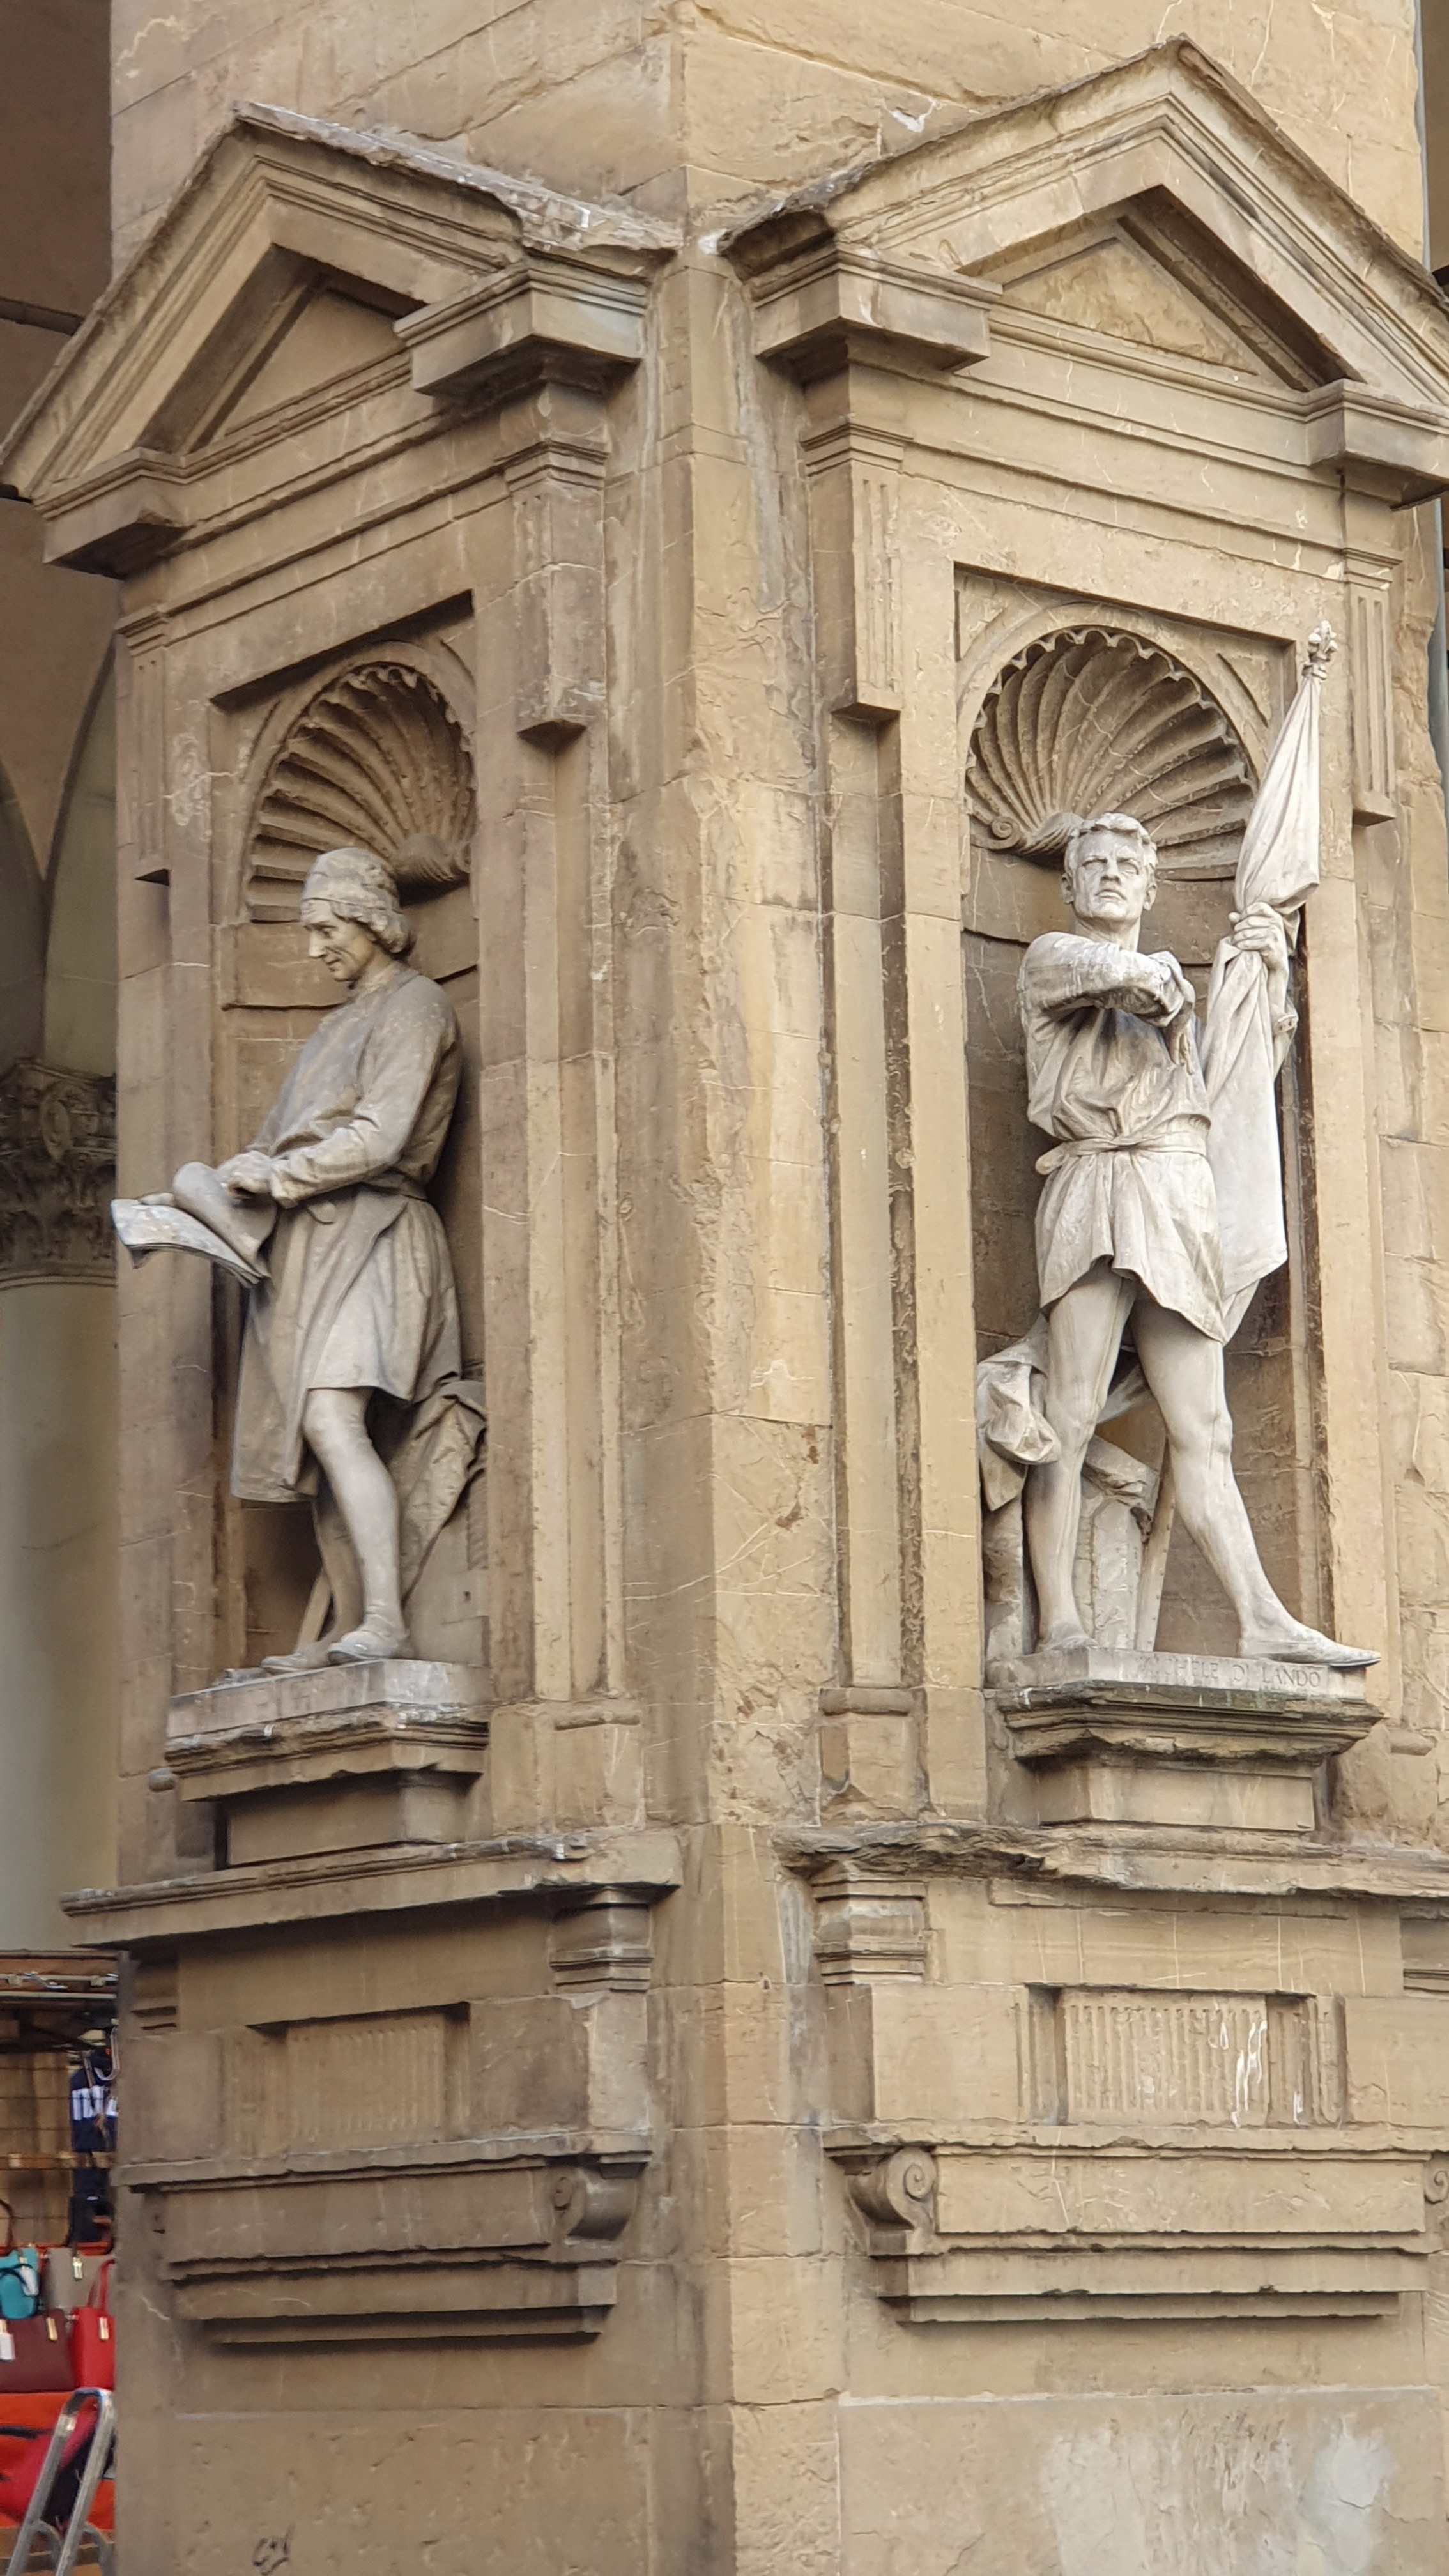person-like: (971, 794, 1400, 1717), (96, 840, 506, 1668)
